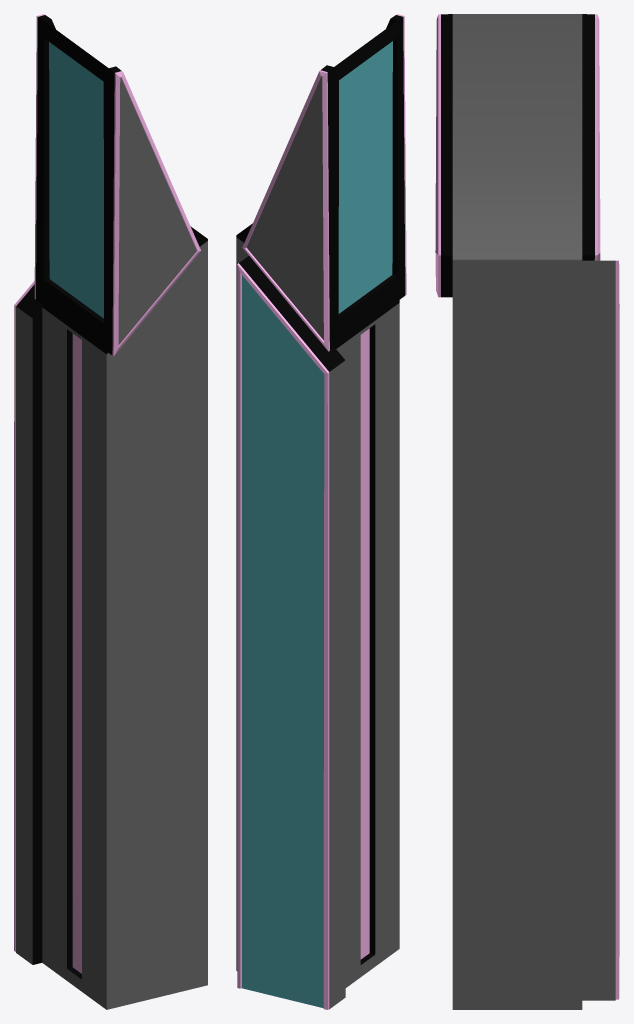
The model's file is SM_Environment_Buildings_Tall_07.fbx.
3 renders of one model, left to right at view 1: azimuth 30°, elevation 25°; view 2: azimuth 150°, elevation 25°; view 3: azimuth 270°, elevation 25°, orthographic. The views are drawn at different scales.
Parts seen in each view (by area): view 1: SM_Environment_Buildings_Tall_07, Lights; view 2: SM_Environment_Buildings_Tall_07, Lights; view 3: SM_Environment_Buildings_Tall_07, Lights.
Part boxes in pixels (bbox=[...]): SM_Environment_Buildings_Tall_07: bbox=[16, 15, 207, 1009]; Lights: bbox=[14, 14, 200, 951]; SM_Environment_Buildings_Tall_07: bbox=[236, 15, 405, 1009]; Lights: bbox=[237, 14, 406, 1009]; SM_Environment_Buildings_Tall_07: bbox=[441, 14, 615, 1009]; Lights: bbox=[435, 14, 619, 999].
Bounding box in the file's own units: 6.59 × 53.3 × 9.38.
